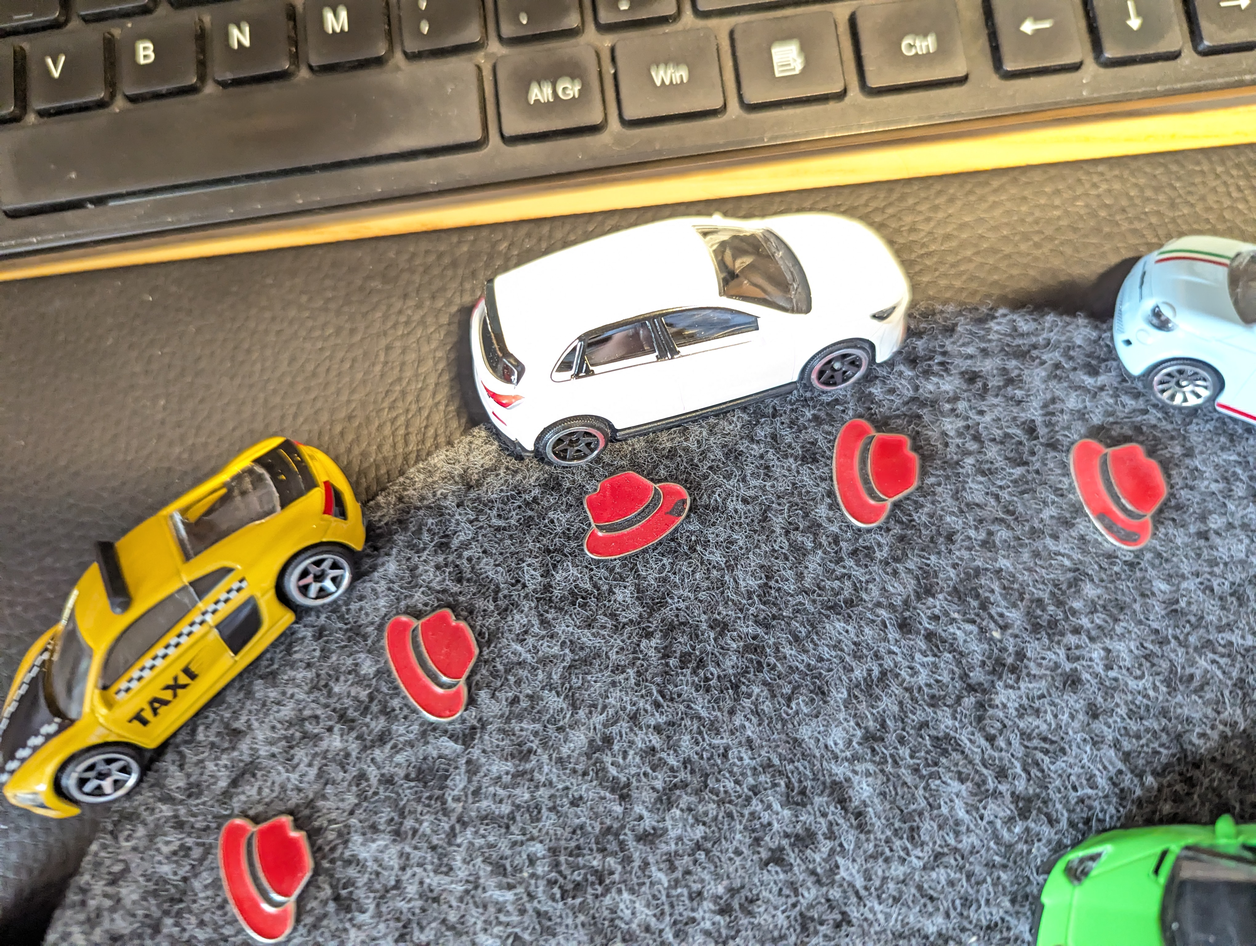Car: (0, 394, 370, 835), (437, 209, 953, 474), (1081, 189, 1256, 451)
Red-Hat: (192, 791, 337, 946), (1059, 421, 1176, 595), (366, 598, 494, 745), (557, 457, 706, 573), (818, 406, 931, 547)
Scratch: (1085, 495, 1155, 558), (654, 491, 705, 529)
